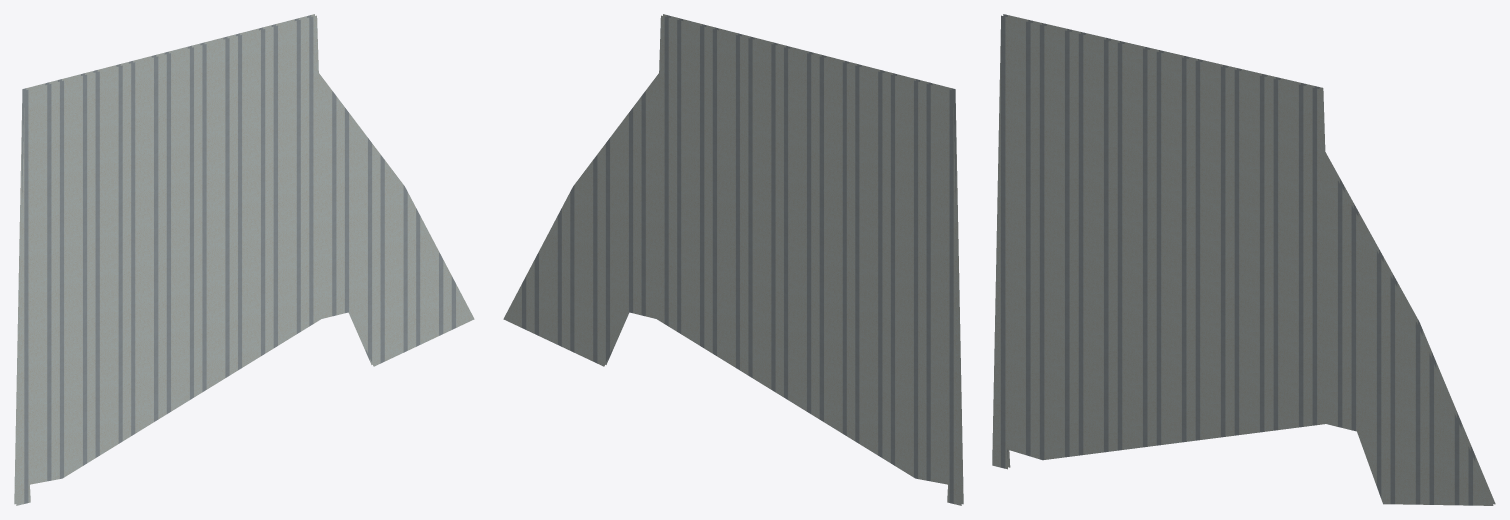
Rendered from floor_52.obj.
3 views of the same model, side by side, from view 1: azimuth 30°, elevation 25°; view 2: azimuth 150°, elevation 25°; view 3: azimuth 330°, elevation 25° (orthographic). The views are drawn at different scales.
Parts seen in each view (by area): view 1: floor_52; view 2: floor_52; view 3: floor_52.
Part boxes in pixels (bbox=[...]): floor_52: bbox=[14, 14, 474, 505]; floor_52: bbox=[503, 14, 963, 505]; floor_52: bbox=[992, 14, 1495, 505].
Bounding box in the file's own units: 12.87 × 11.19 × 0.1.
1 material, 1 textured.
